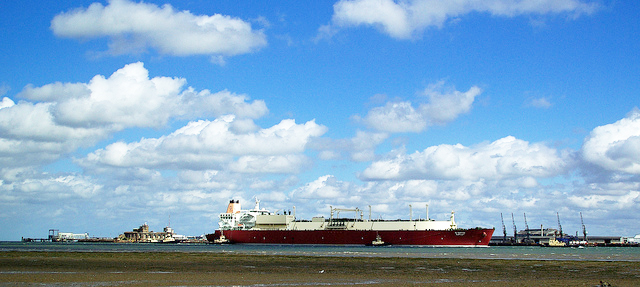LNG_ship: (210, 199, 499, 251)
tug_boat: (211, 229, 249, 246), (156, 226, 182, 248), (539, 234, 573, 250), (370, 232, 392, 247)
